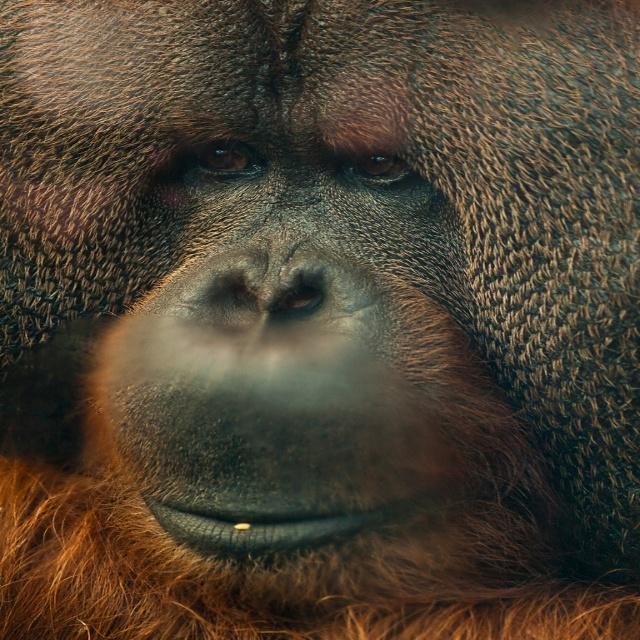Monkey: (55, 0, 634, 640)
